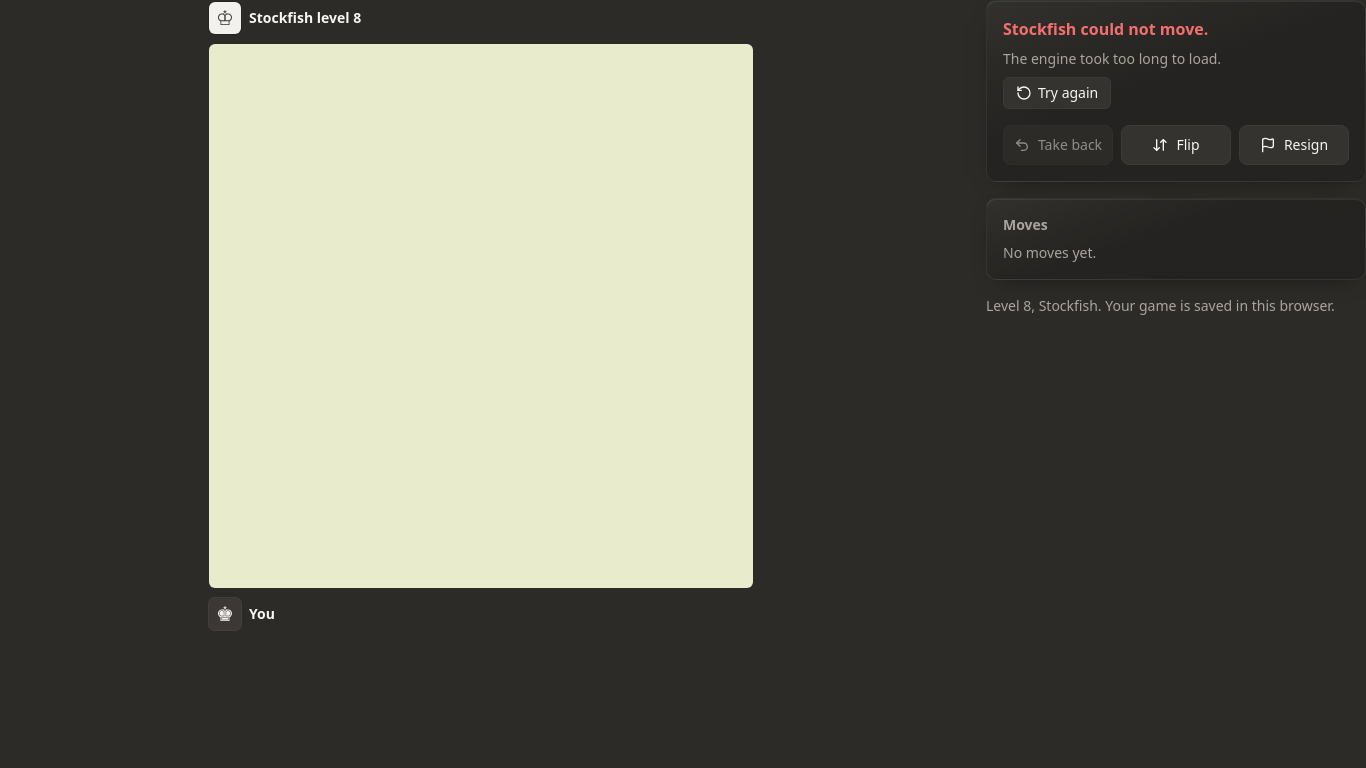
it: PlayPage › shows an engine failure and tries again
Check: the text "Stockfish could not move." is shown, box [1003,18,1208,40]
Check: the text "The engine took too long to load." is shown, box [1003,49,1221,68]
Click the button "Try again": point(1057, 93) [1003,77,1111,109]
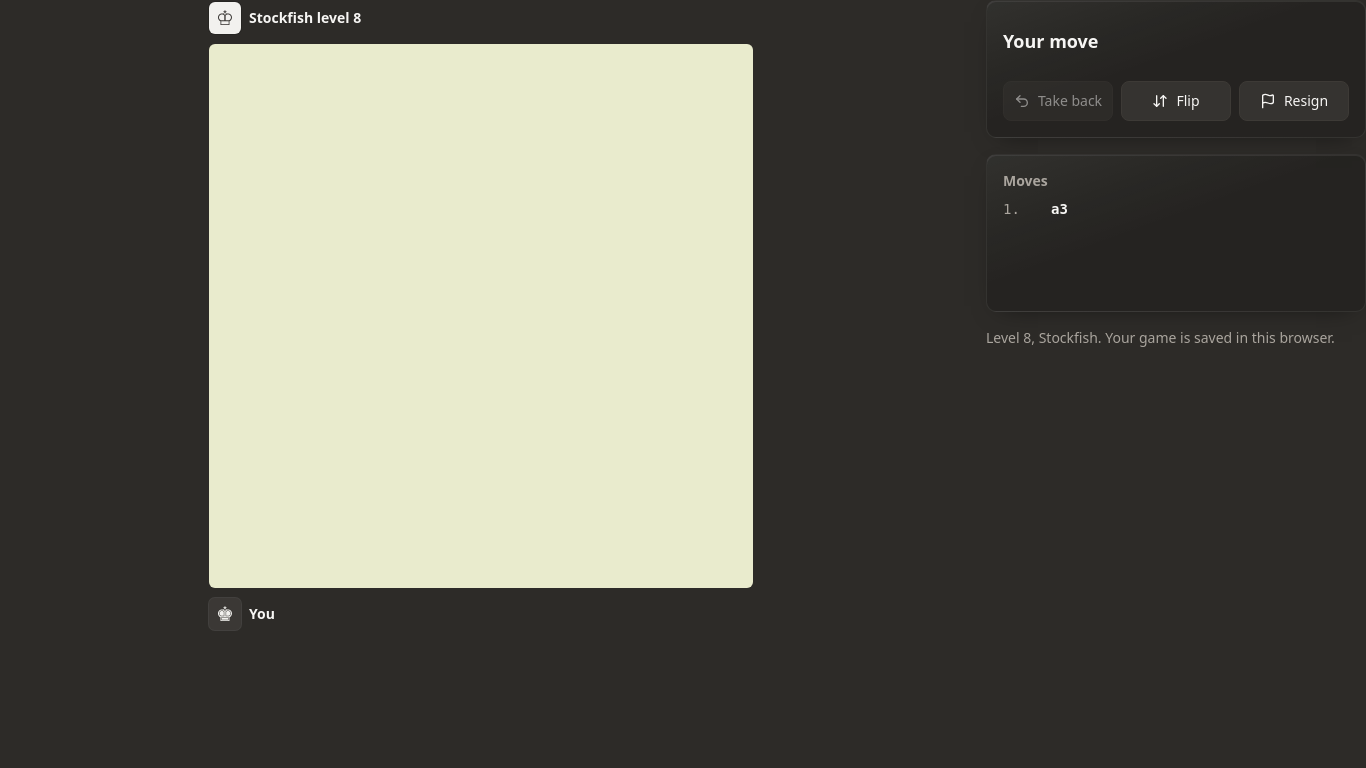
Check: the text "Stockfish could not move." is gone
